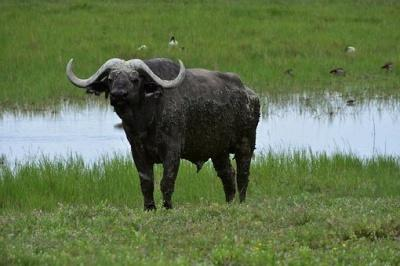buffalo: (68, 58, 260, 209)
